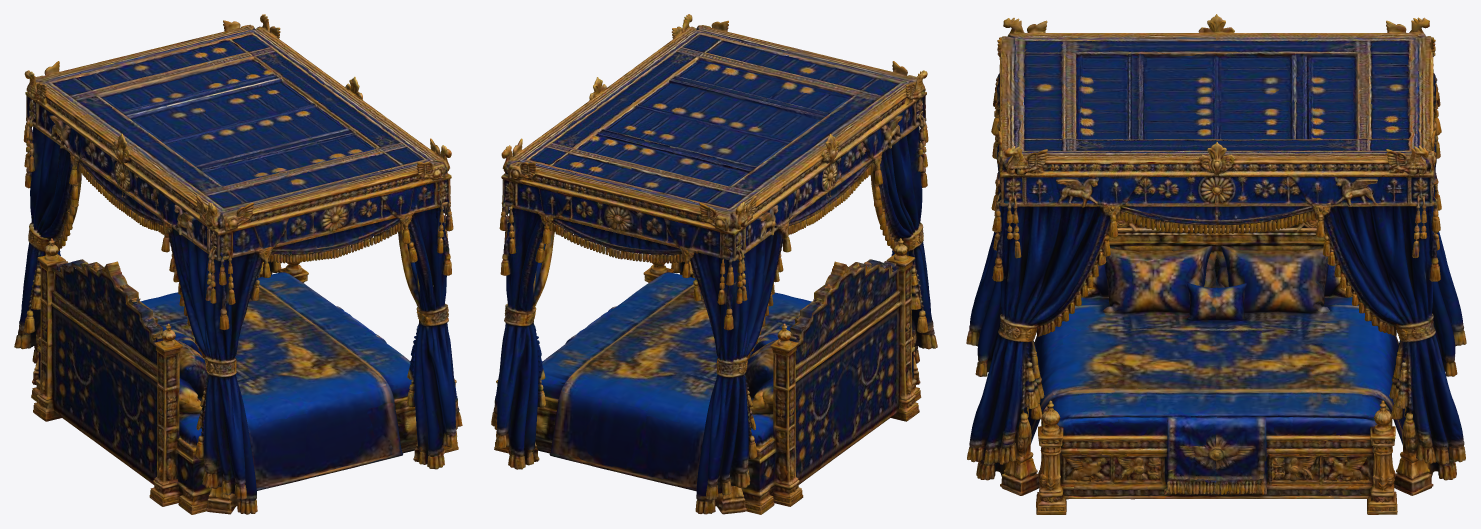
The model's file is سرير الملك.glb.
3 views of the same model, side by side, from view 1: azimuth 30°, elevation 25°; view 2: azimuth 150°, elevation 25°; view 3: azimuth 270°, elevation 25° (orthographic). The views are drawn at different scales.
Parts seen in each view (by area): view 1: tripo_node_88125d21-eaf8-4ade-8312-81e047468ae0; view 2: tripo_node_88125d21-eaf8-4ade-8312-81e047468ae0; view 3: tripo_node_88125d21-eaf8-4ade-8312-81e047468ae0.
Part boxes in pixels (box(x1,y1,x2,y2)): tripo_node_88125d21-eaf8-4ade-8312-81e047468ae0: box(14, 14, 462, 514); tripo_node_88125d21-eaf8-4ade-8312-81e047468ae0: box(491, 14, 937, 514); tripo_node_88125d21-eaf8-4ade-8312-81e047468ae0: box(966, 14, 1466, 514).
Bounding box in the file's own units: 0.7168 × 0.779 × 0.9802.
Materials: 1 (1 with a texture image).
